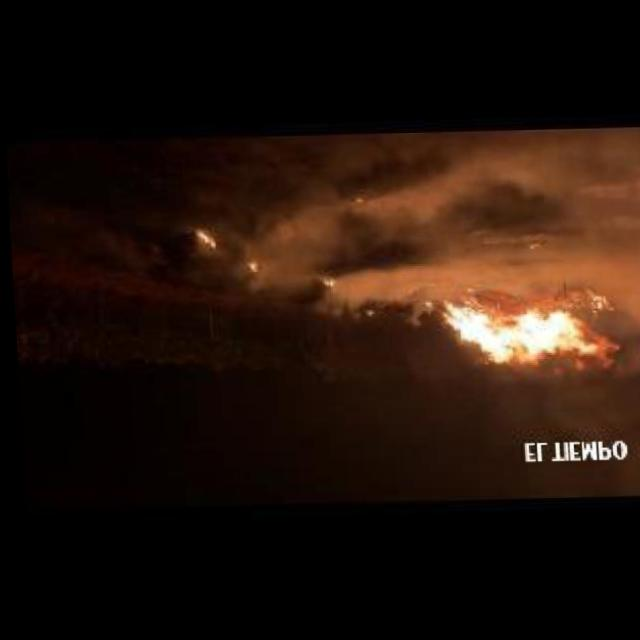Fire: (306, 124, 615, 258), (427, 289, 615, 377), (193, 229, 212, 247), (241, 261, 254, 277), (320, 282, 331, 290), (360, 309, 369, 315), (420, 302, 426, 308)
